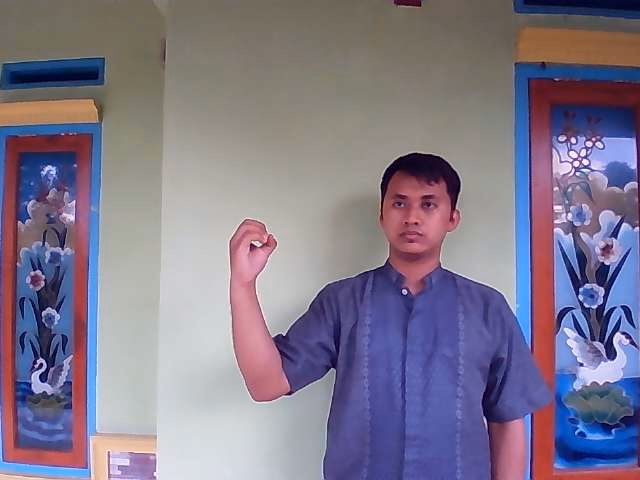O: (225, 217, 278, 292)
